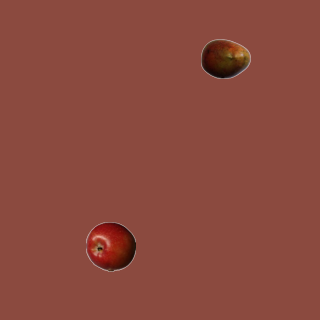Apple Braeburn: (85, 221, 135, 271)
Mango Red: (200, 33, 250, 83)
